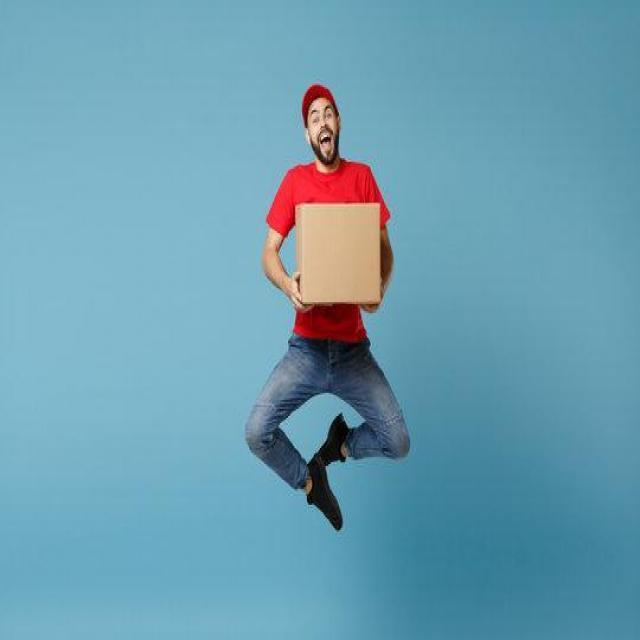box: (294, 197, 386, 313)
